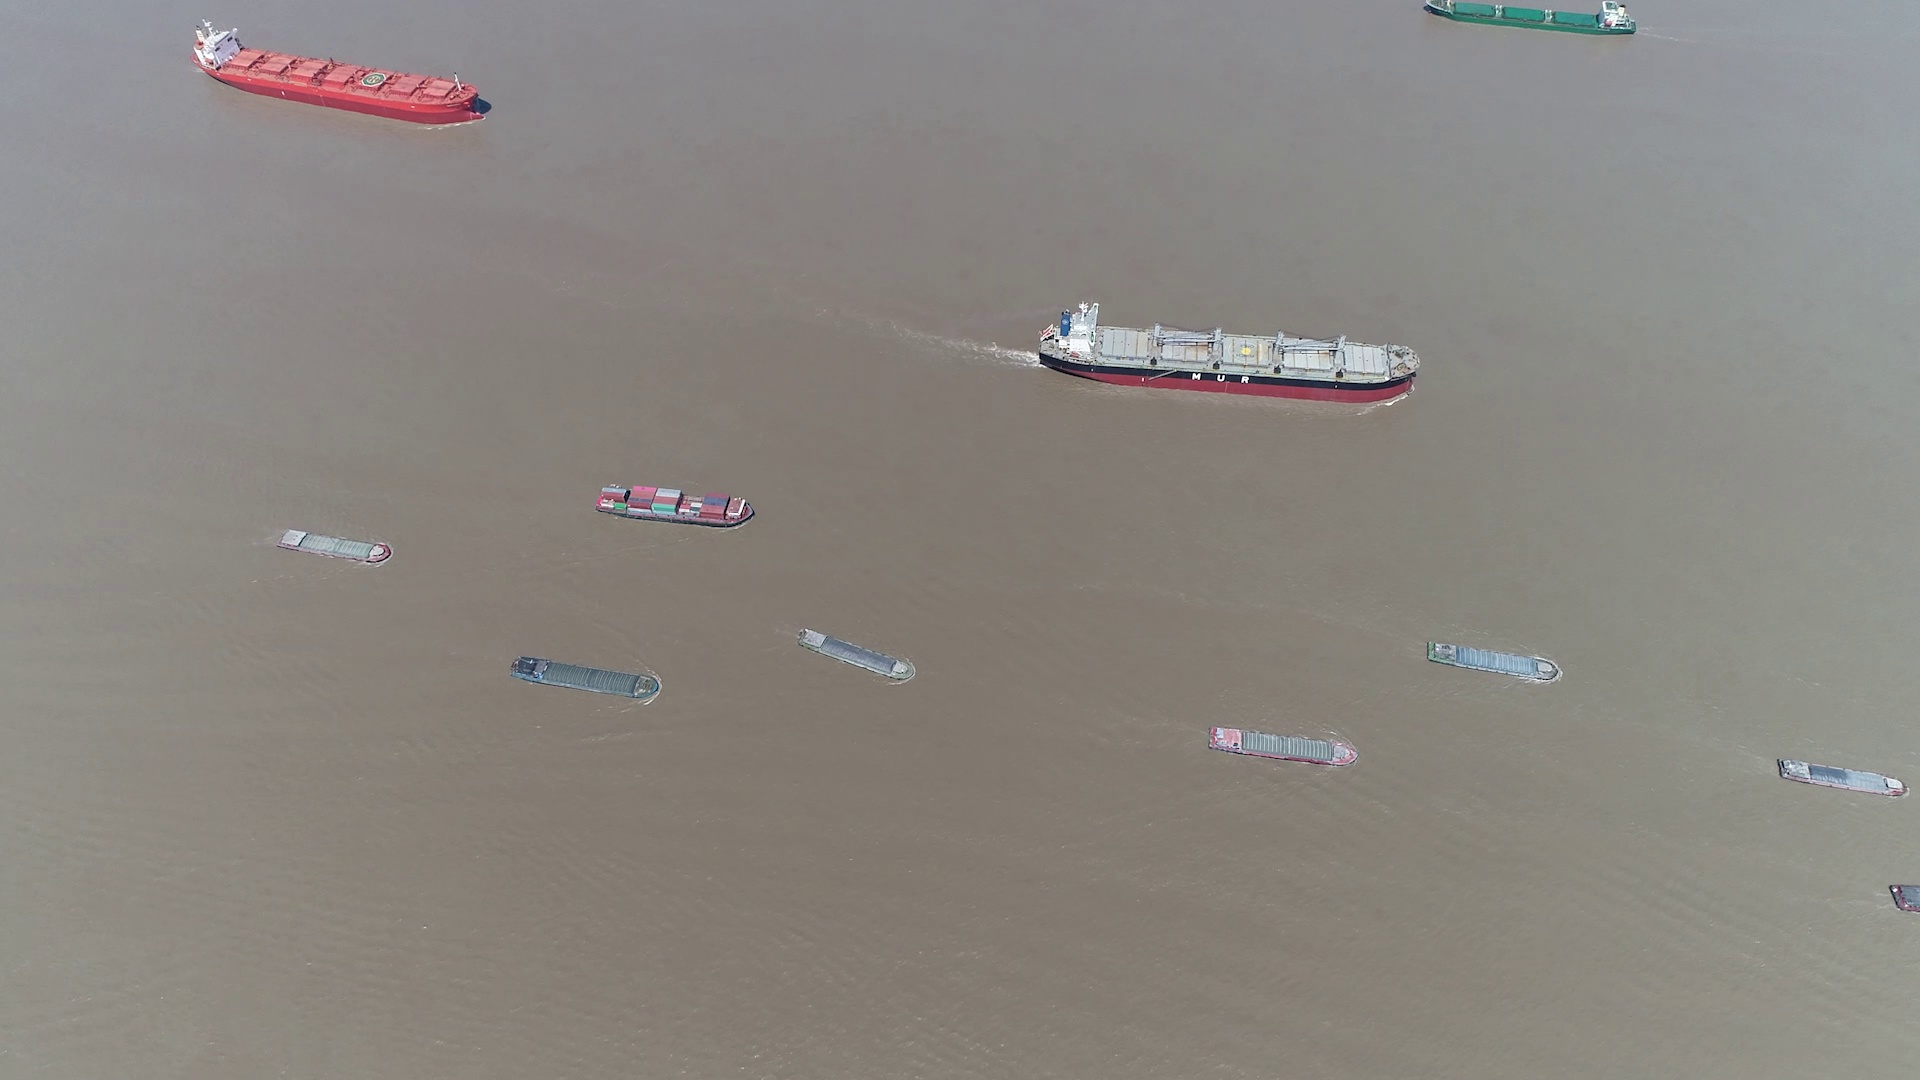ship: (1038, 305, 1416, 402), (194, 21, 489, 123), (1423, 0, 1636, 36), (595, 483, 756, 527), (800, 628, 916, 684), (512, 658, 659, 702), (1209, 727, 1356, 767), (1429, 642, 1563, 684), (1776, 758, 1907, 796), (278, 527, 393, 564), (1891, 884, 1920, 915)
